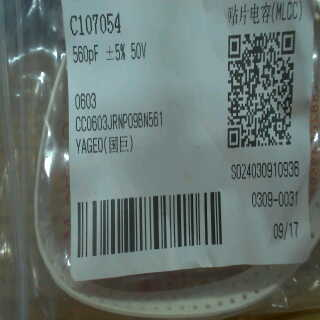560pF: (70, 42, 102, 65)
